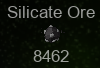Silicate: (7, 4, 95, 63)
